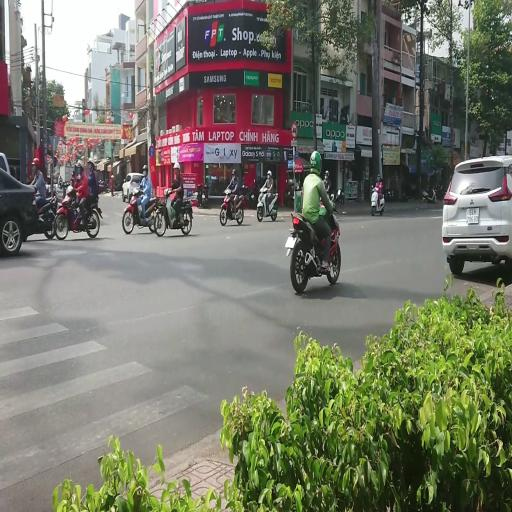bikes: (284, 194, 342, 292), (1, 182, 58, 256), (54, 185, 100, 239), (122, 187, 162, 234), (154, 188, 193, 236), (29, 184, 58, 239), (220, 188, 244, 226), (256, 188, 278, 222), (93, 178, 108, 219), (370, 184, 385, 216), (244, 178, 260, 208), (55, 176, 72, 201), (284, 178, 300, 204), (196, 182, 208, 208), (422, 188, 437, 204), (330, 188, 345, 204), (241, 185, 251, 208), (98, 178, 108, 193), (338, 189, 344, 204)
helmet: (309, 150, 322, 174), (75, 160, 84, 170), (87, 158, 95, 168), (66, 185, 73, 195), (32, 158, 40, 166), (173, 162, 180, 170), (142, 164, 148, 173), (70, 172, 76, 180), (232, 168, 237, 175), (267, 170, 272, 176), (225, 189, 231, 194), (374, 184, 379, 190), (58, 176, 63, 182), (325, 170, 329, 177), (379, 182, 383, 189), (330, 193, 334, 200), (377, 174, 380, 181), (72, 171, 75, 177), (371, 184, 374, 189), (111, 174, 114, 178)
